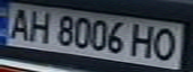0: (72, 16, 93, 50), (90, 17, 109, 52)
6: (106, 19, 130, 55)
8: (51, 11, 75, 47)
A: (3, 6, 33, 40)
H: (127, 21, 160, 60), (24, 8, 54, 44)
O: (148, 25, 184, 62)
